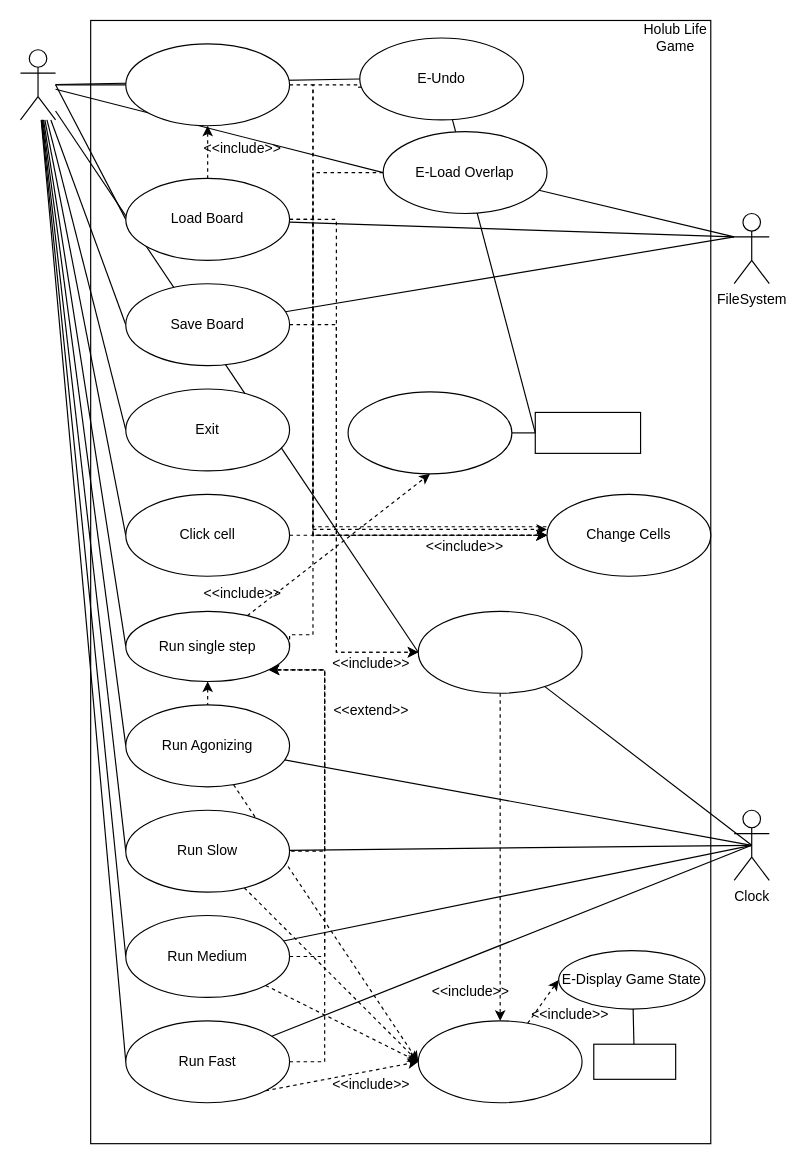
Image size: 806x1164. Some labels were removed from this diagram. Here are the shapes that lost their labels. From the top down, the centre of each, then its label:
At (x=37, y=84): "User".
At (x=207, y=84): "Clear Board".
At (x=429, y=432): "E-Save state".
At (x=587, y=432): "E-Undo system".
At (x=499, y=651): "Halt".
At (x=499, y=1061): "Change Game State".
At (x=634, y=1061): "E-StatusBar".
